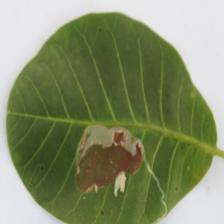leaf miner: (64, 115, 156, 194)
